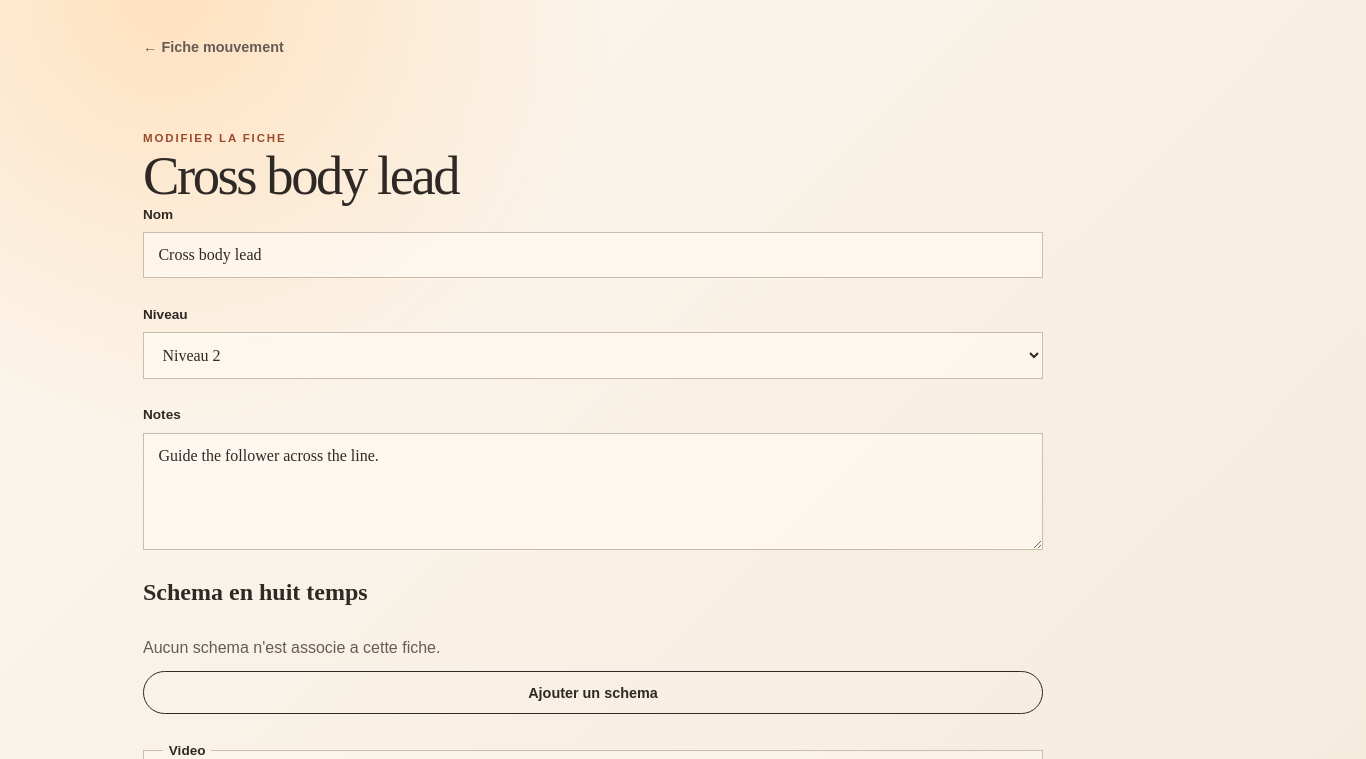
Test case: MovementEditForm › requires all eight images when adding a schema
Click the button "Ajouter un schema": click(593, 693) [143, 671, 1043, 714]
(page scrolled)
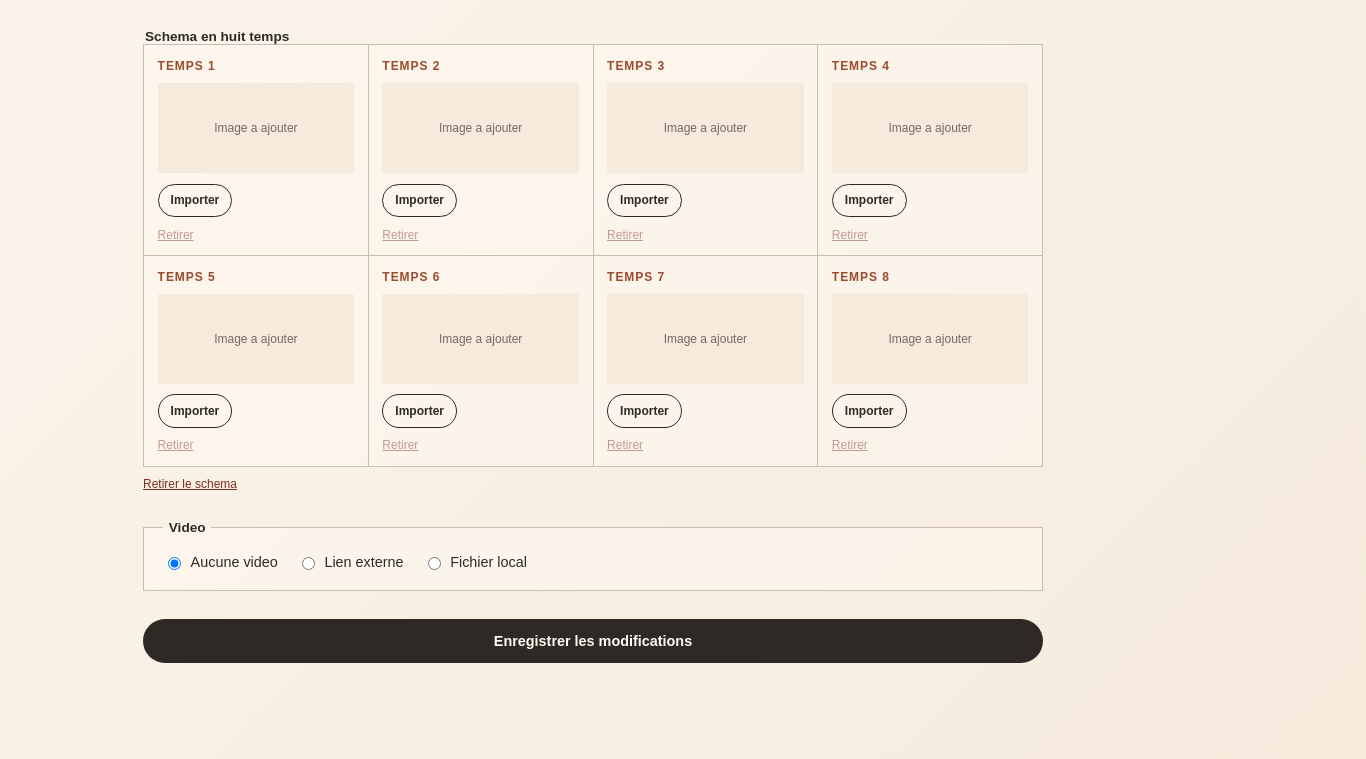
Click the button "Enregistrer les modifications": click(593, 641) [143, 619, 1043, 663]
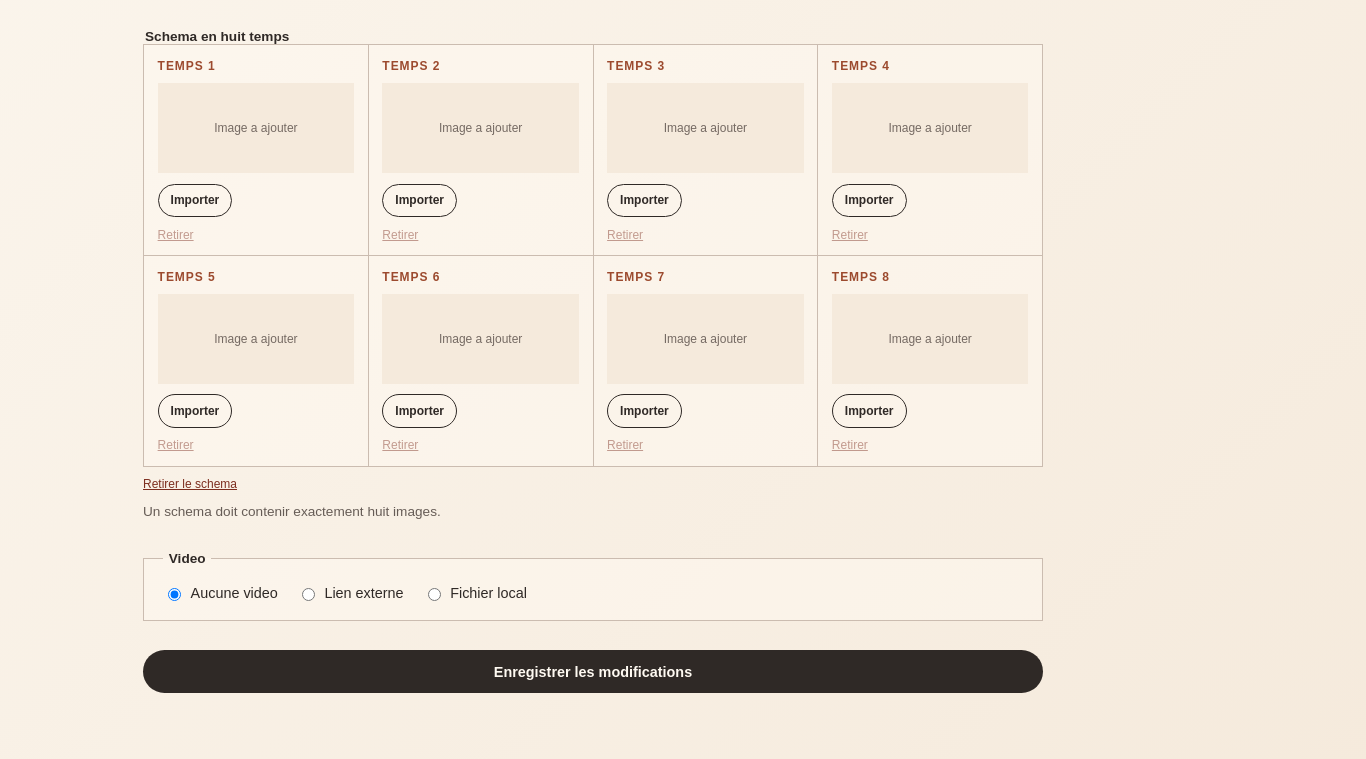
Expected: the text "Un schema doit contenir exactement huit images." is shown, [143, 504, 441, 519]
